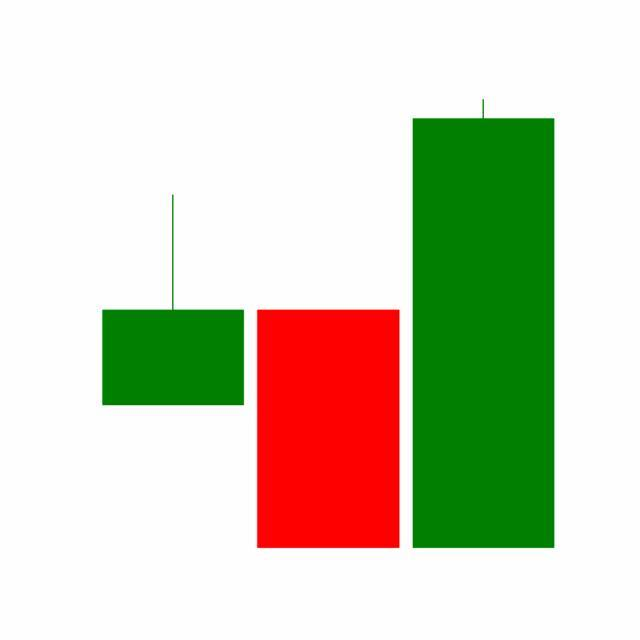Marubozu: (250, 307, 407, 551)
